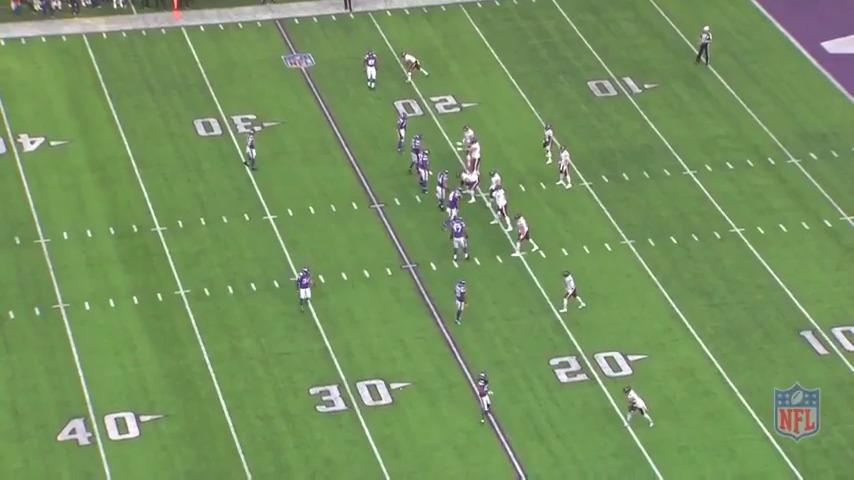defense: (470, 373, 499, 426), (450, 213, 475, 264), (292, 266, 317, 314), (444, 187, 466, 232), (453, 278, 471, 329), (416, 148, 435, 194), (362, 48, 382, 91), (242, 130, 260, 176), (393, 111, 409, 156), (433, 169, 449, 211), (408, 134, 422, 177)
oline: (487, 184, 512, 232), (456, 135, 482, 174), (462, 169, 485, 205), (485, 168, 503, 211), (459, 124, 481, 153)
qb: (556, 146, 575, 192)
ref: (696, 24, 715, 71), (338, 0, 358, 15)
skill: (623, 385, 658, 431), (559, 269, 589, 316), (508, 213, 537, 259), (401, 49, 431, 84), (542, 122, 559, 165)
